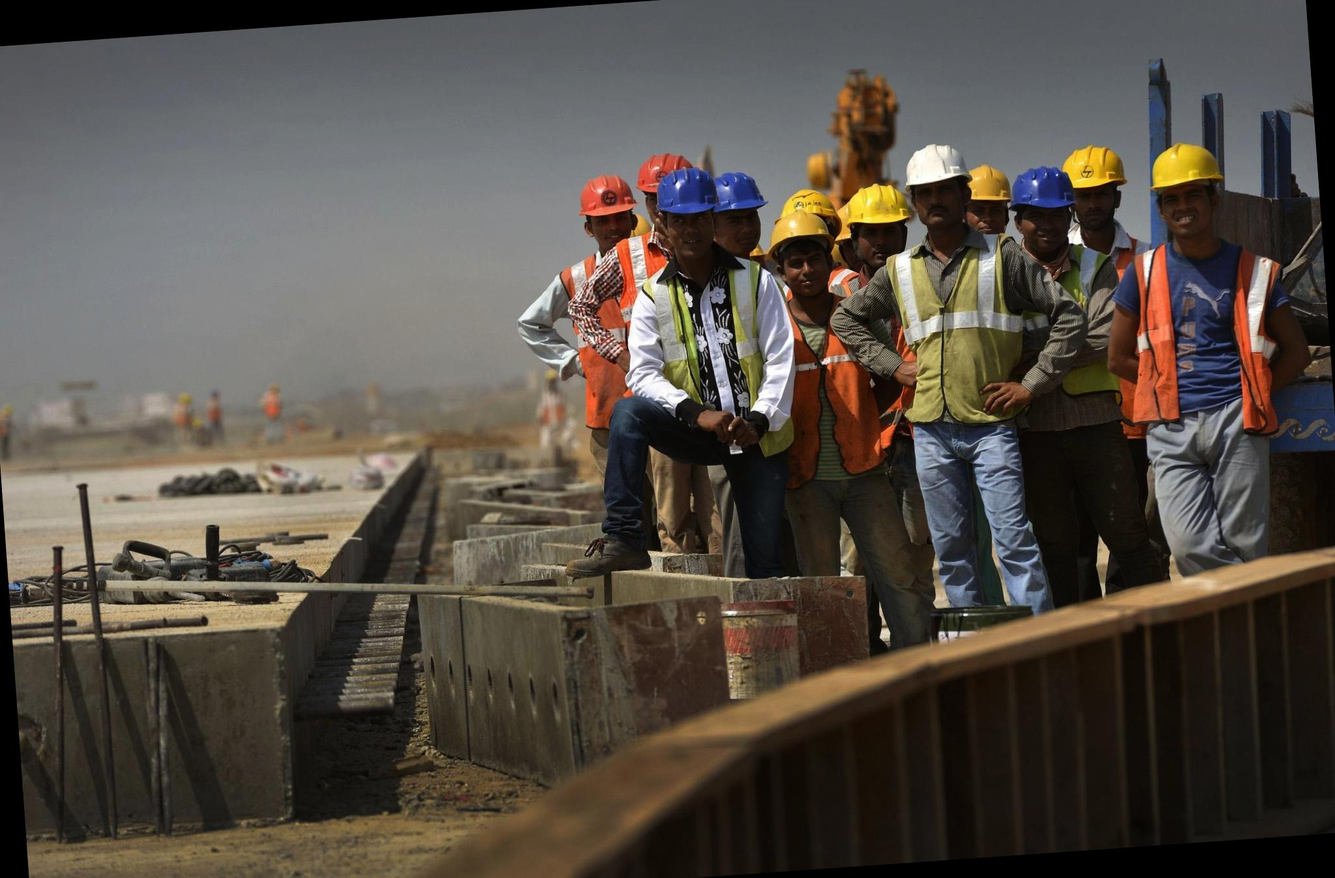helmet: (1148, 138, 1223, 218), (1060, 140, 1132, 219), (900, 137, 974, 212), (837, 179, 916, 242), (1012, 159, 1076, 235), (651, 159, 721, 227), (764, 210, 837, 275), (572, 167, 638, 231), (970, 158, 1017, 226), (712, 164, 768, 220)
no_vest: (640, 251, 804, 466)
person: (894, 141, 1077, 606), (1109, 134, 1299, 568), (621, 161, 811, 594), (772, 173, 944, 644), (1020, 159, 1139, 597), (553, 167, 653, 491)
